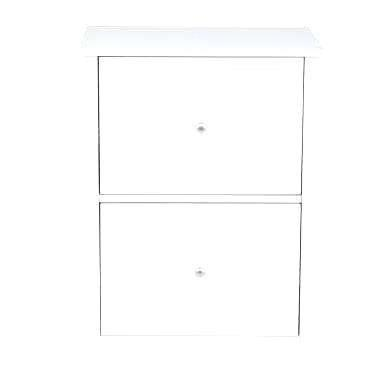cabinet_door: (103, 60, 304, 194), (104, 206, 303, 334)
handle: (192, 265, 207, 281), (194, 120, 209, 136)
